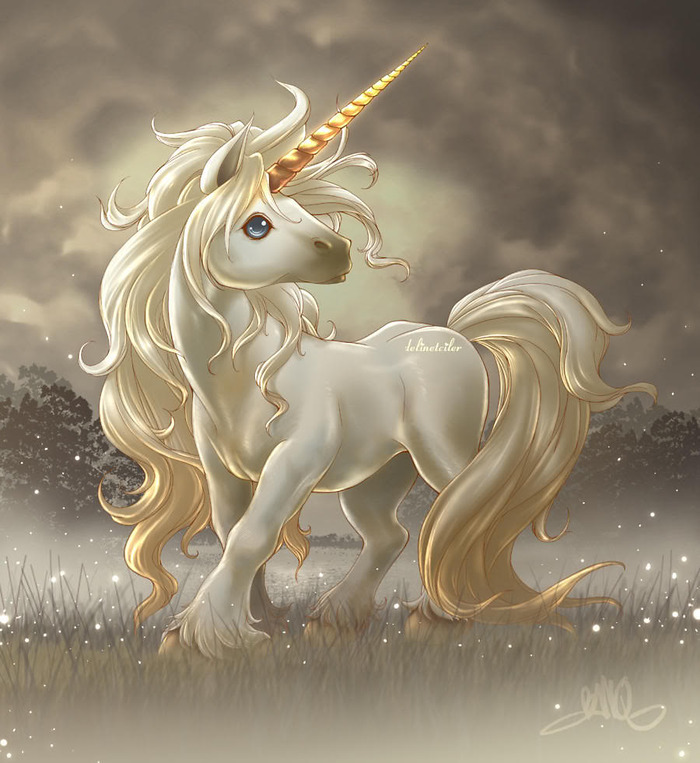background: (83, 35, 648, 651)
